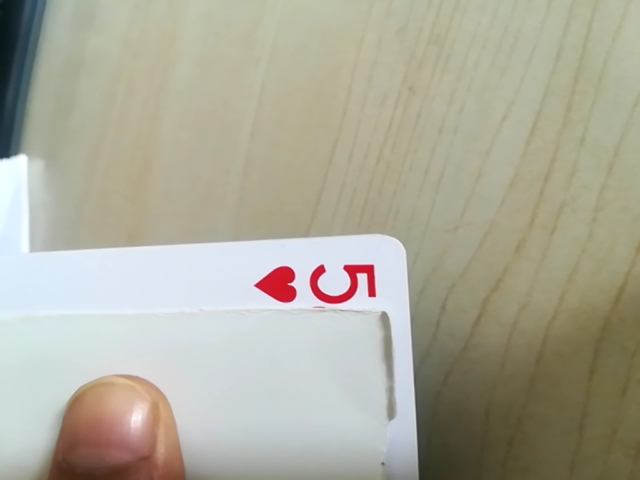hx 5: (243, 245, 398, 325)
